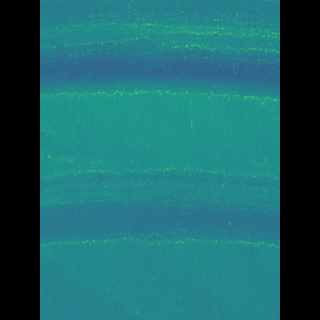Loch: (70, 0, 251, 103), (70, 166, 249, 250)
